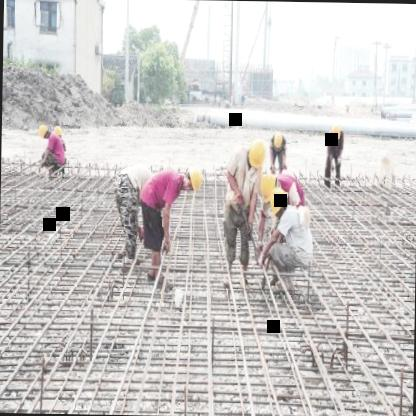helmet: (258, 170, 280, 206), (245, 140, 268, 174), (268, 188, 291, 220), (180, 167, 204, 195), (270, 129, 286, 153), (35, 119, 52, 140), (329, 121, 343, 142), (52, 123, 63, 146)
